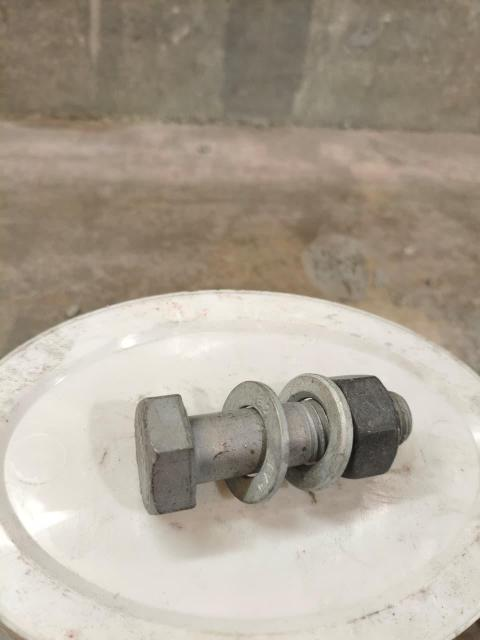Metal: (113, 375, 415, 515)
